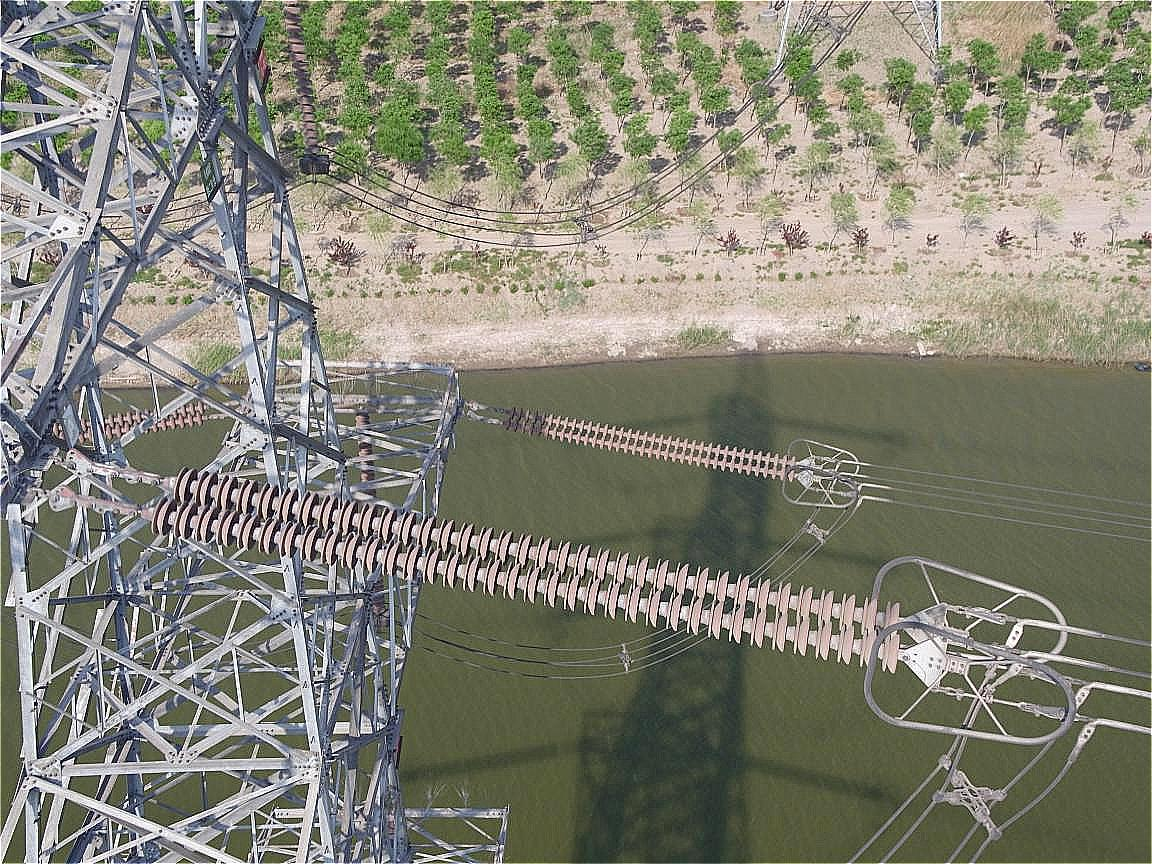insultor1: (521, 395, 821, 491)
insultor2: (108, 463, 914, 672)
